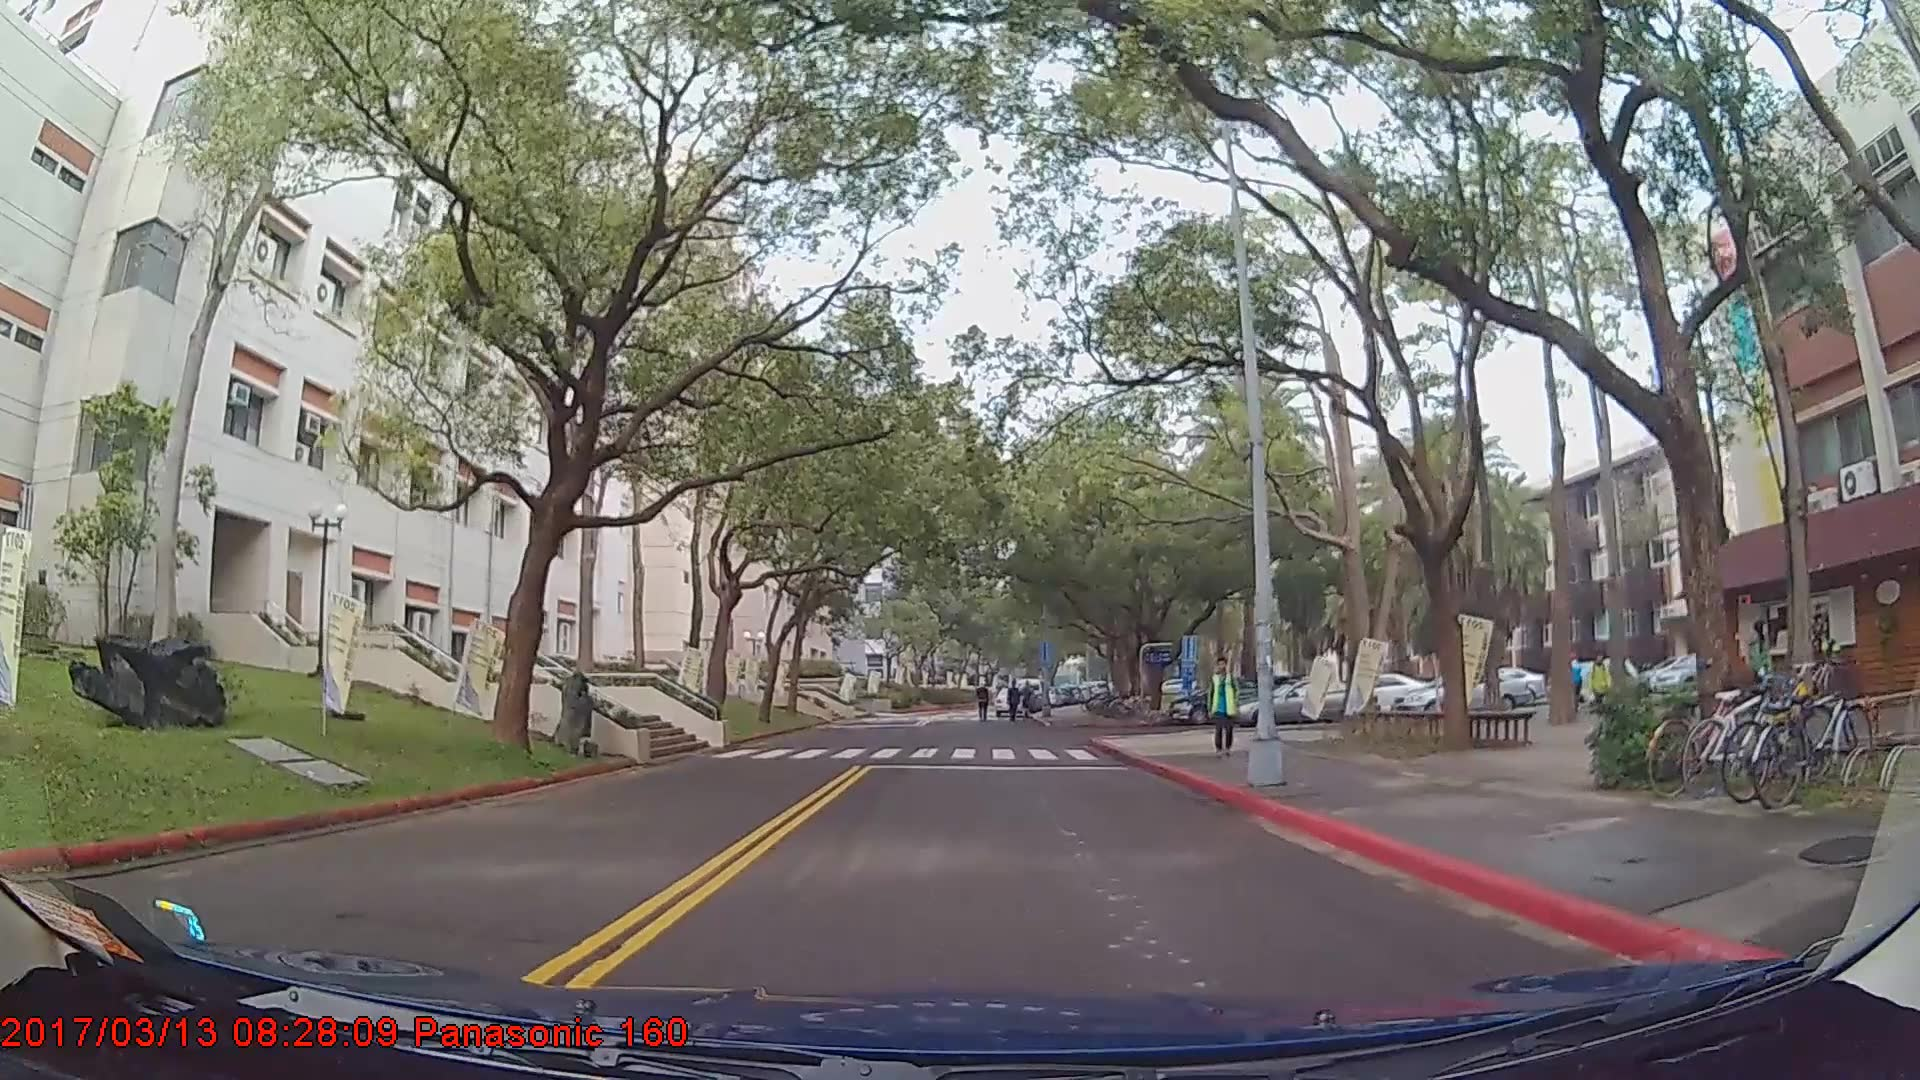pedestrian: (1204, 650, 1241, 753), (1588, 646, 1611, 708), (1005, 681, 1025, 725)
vehicle: (1234, 677, 1382, 730), (1395, 667, 1533, 722)
